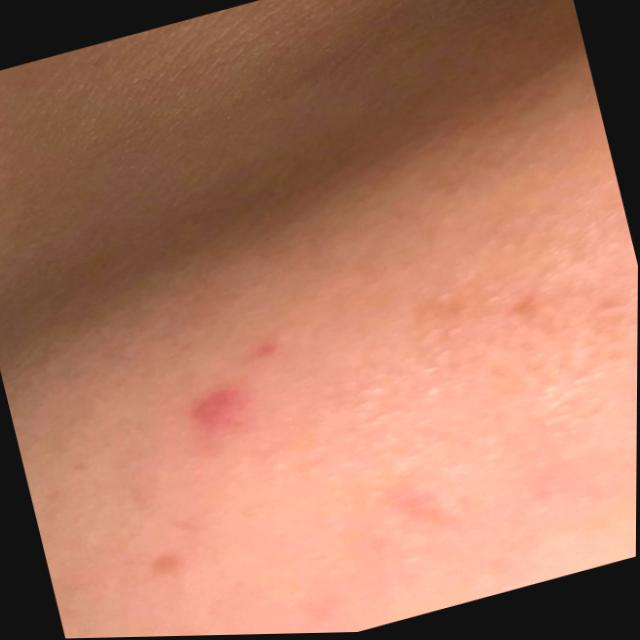papule: (164, 330, 308, 448)
